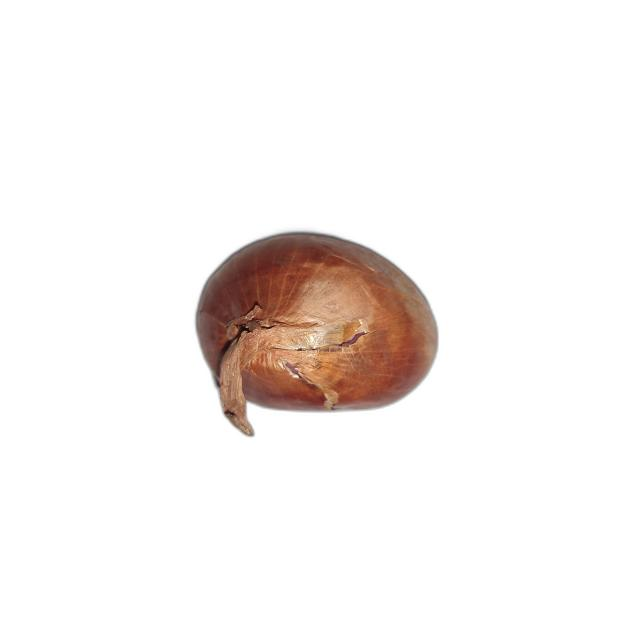onion: (197, 232, 440, 436)
